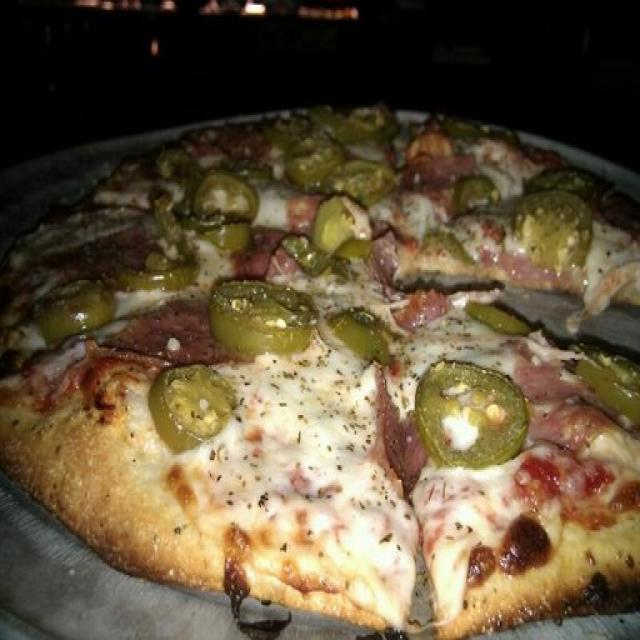Ham: (522, 366, 604, 444), (374, 242, 451, 325), (376, 381, 423, 489), (119, 315, 223, 363), (70, 217, 145, 277), (503, 257, 578, 296), (408, 152, 476, 195), (205, 130, 273, 164), (248, 236, 289, 278)
Jalapenoes: (417, 362, 524, 458), (282, 121, 392, 205), (159, 153, 244, 256), (215, 284, 311, 357), (154, 373, 240, 452), (515, 196, 590, 274), (42, 282, 117, 336), (582, 350, 640, 418), (318, 198, 367, 264), (336, 310, 388, 354), (526, 167, 606, 195), (475, 304, 529, 344), (460, 181, 500, 213)
Pizza: (0, 105, 640, 640)
